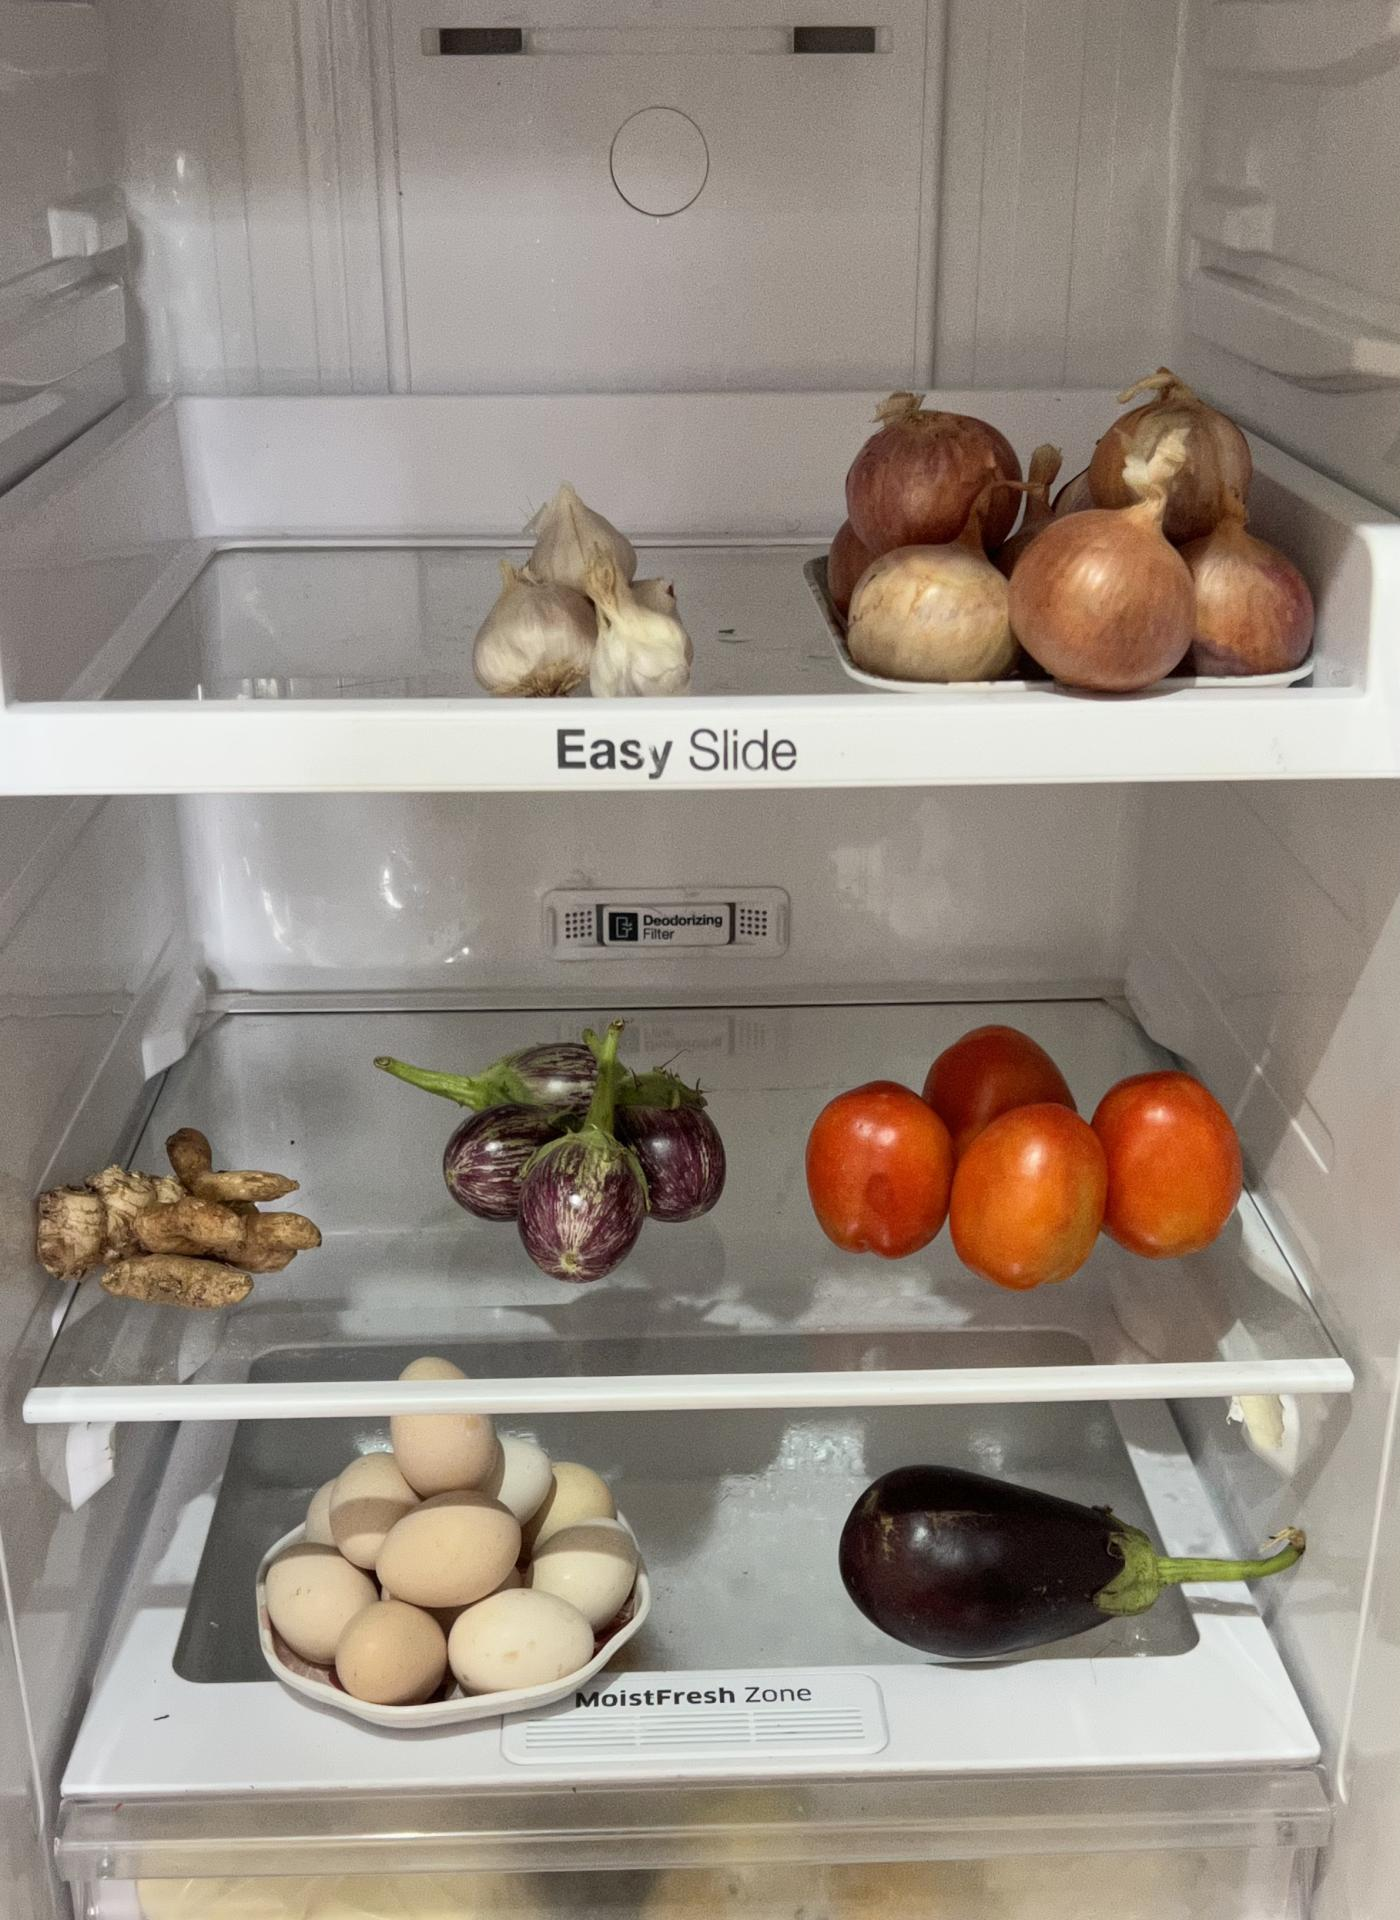brinjal: (841, 1459, 1272, 1653), (444, 1036, 737, 1279)
egg: (268, 1401, 655, 1695)
garlic: (470, 483, 693, 707)
ginger: (25, 1114, 322, 1319)
onion: (830, 398, 1333, 696)
tomato: (816, 1018, 1246, 1286)
